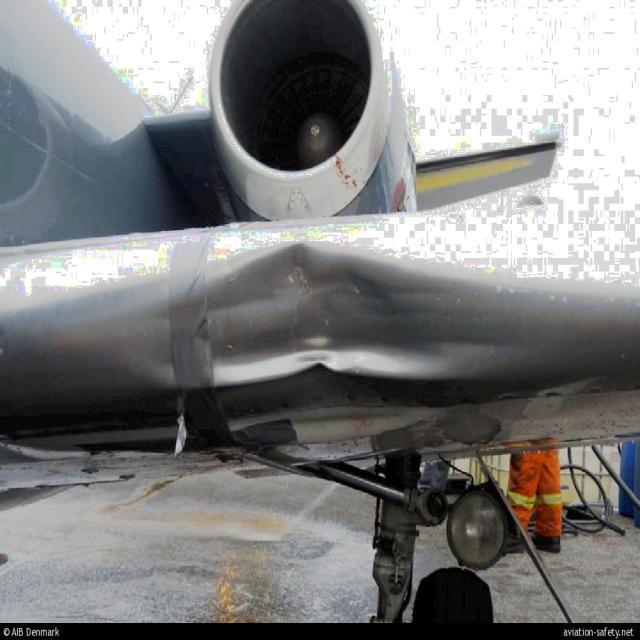dent: (158, 242, 531, 382)
